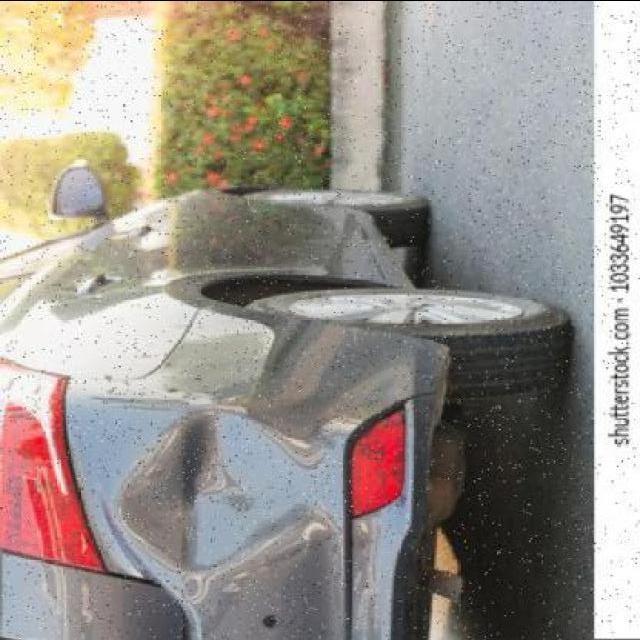rear-bumper-dent: (66, 351, 430, 640)
